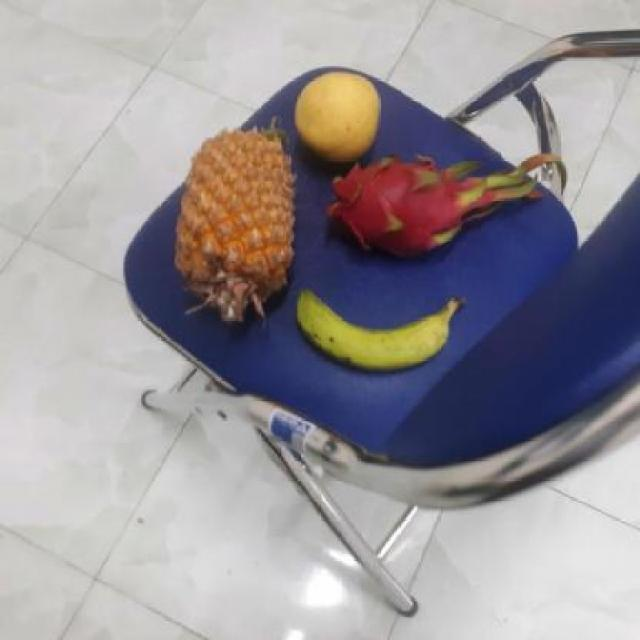banana: (301, 279, 461, 370)
dragon fruit: (333, 154, 496, 258)
pear: (292, 72, 385, 163)
sugar apple: (178, 126, 299, 323)
